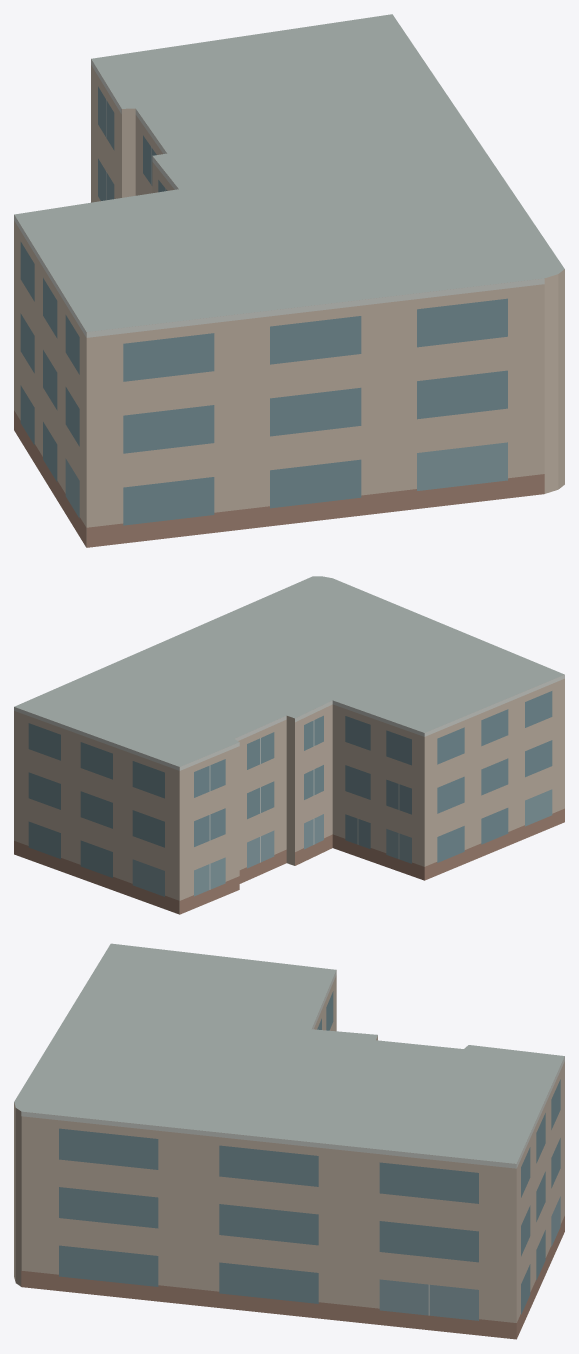
File: survey-upis-32873154.glb
3 views of the same model, one above another, from view 1: azimuth 30°, elevation 25°; view 2: azimuth 150°, elevation 25°; view 3: azimuth 270°, elevation 25° (orthographic). The views are drawn at different scales.
Parts seen in each view (by area): view 1: survey-upis-32873154.tmp; view 2: survey-upis-32873154.tmp; view 3: survey-upis-32873154.tmp.
Part boxes in pixels (box(x1,y1,x2,y2)): survey-upis-32873154.tmp: box(14, 14, 564, 547); survey-upis-32873154.tmp: box(14, 576, 564, 914); survey-upis-32873154.tmp: box(14, 943, 564, 1339).
Bounding box in the file's own units: 24.67 × 9.15 × 26.04.
